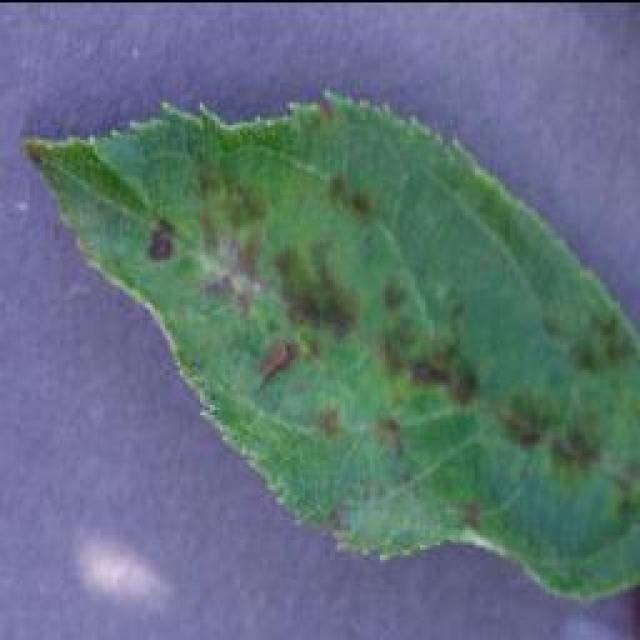apple scab disease: (20, 85, 638, 605)
